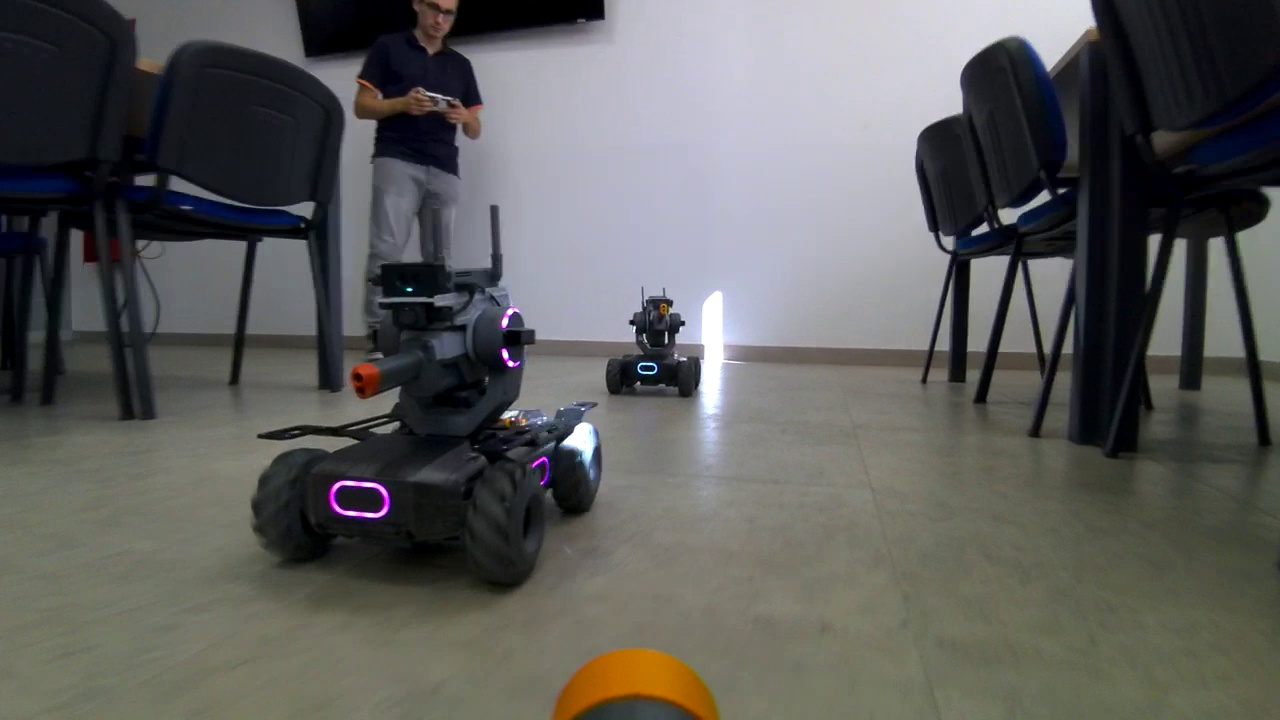robot: (251, 263, 605, 581), (608, 286, 704, 399)
